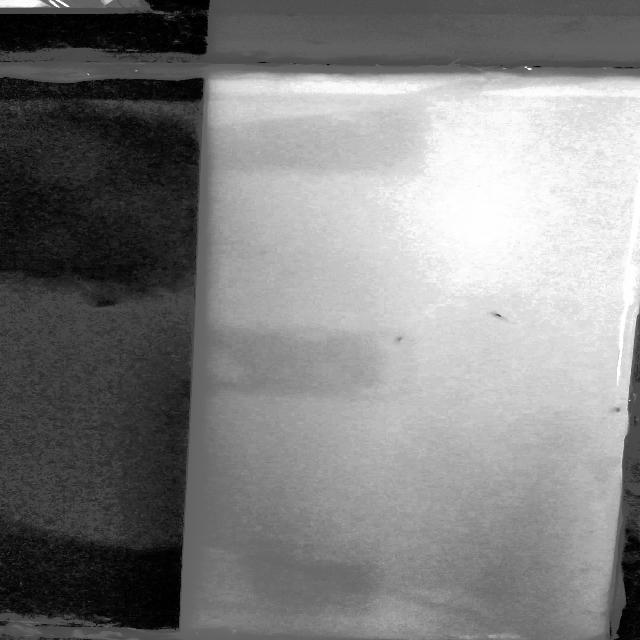shrimp: (479, 307, 519, 326)
